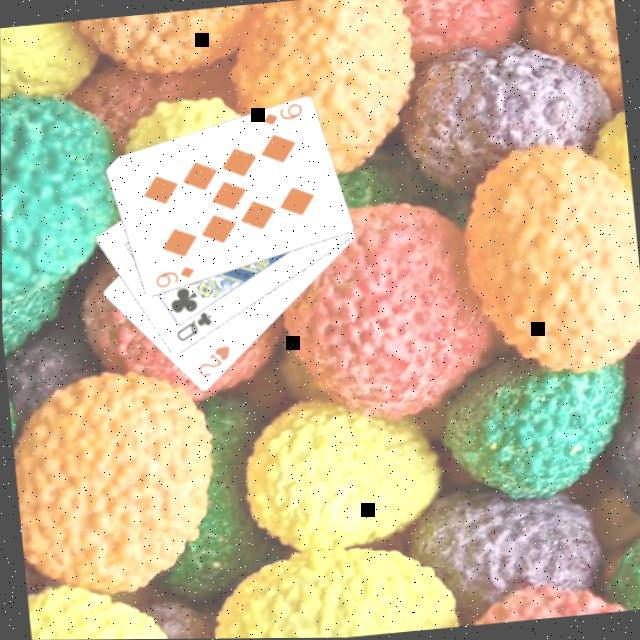2H: (193, 340, 236, 379)
9D: (151, 260, 199, 289), (259, 99, 307, 128)
QC: (172, 306, 218, 344)
